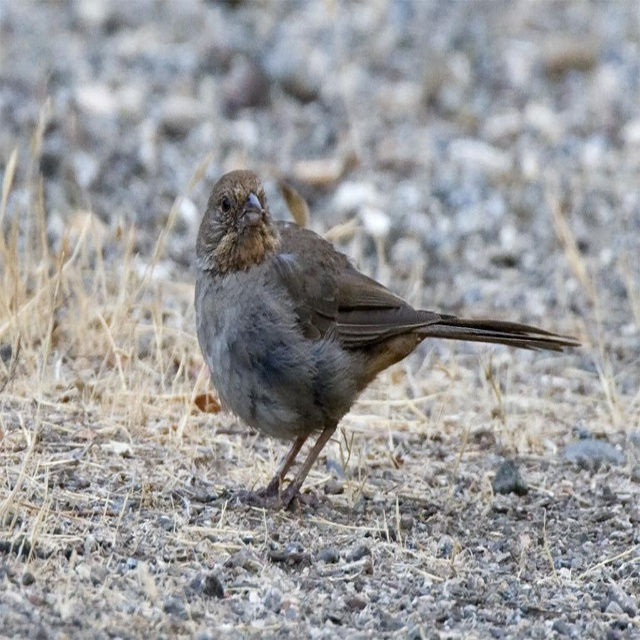Sparrow: (194, 168, 583, 511)
